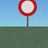sign: (18, 0, 37, 37)
